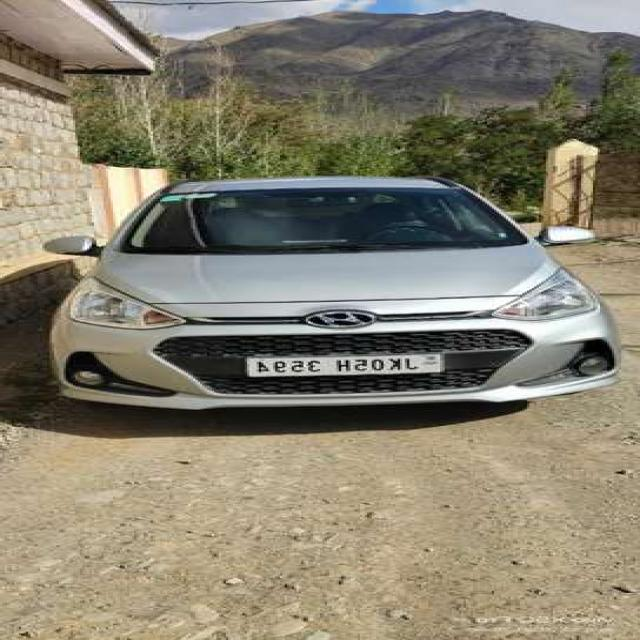license_plate: (233, 350, 452, 384)
